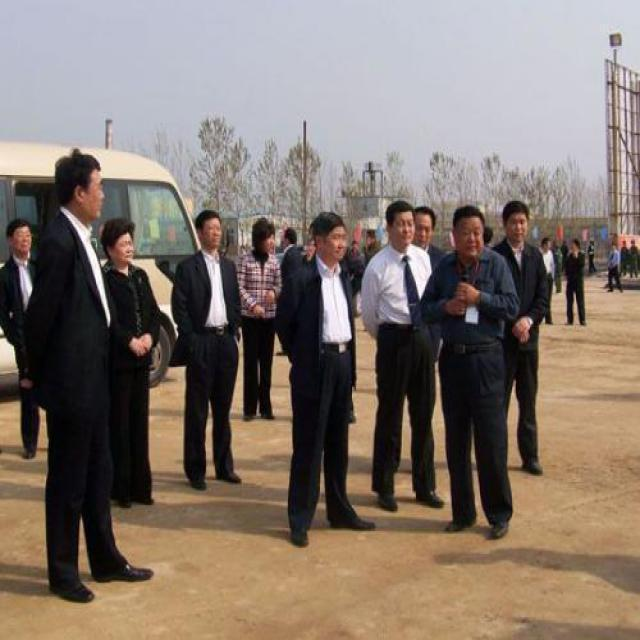head: (56, 147, 106, 223), (96, 211, 142, 270), (449, 200, 487, 262), (311, 207, 349, 265), (380, 196, 416, 251), (190, 204, 225, 257), (500, 194, 532, 248), (5, 213, 37, 265), (251, 210, 279, 257), (412, 204, 436, 253)
person: (33, 144, 142, 619), (278, 207, 375, 553), (428, 197, 520, 551), (356, 197, 450, 527), (165, 206, 255, 503), (90, 207, 169, 526), (488, 184, 568, 482), (231, 213, 290, 435)
